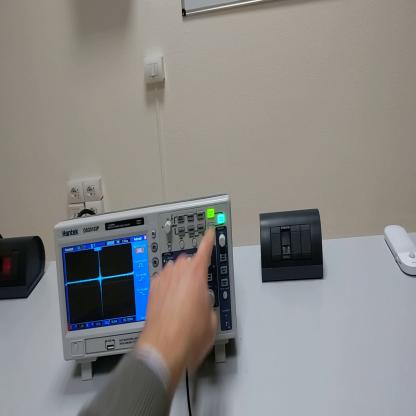hand: (142, 223, 220, 374)
oscilloscope: (51, 186, 236, 383)
socket: (2, 234, 47, 301)
